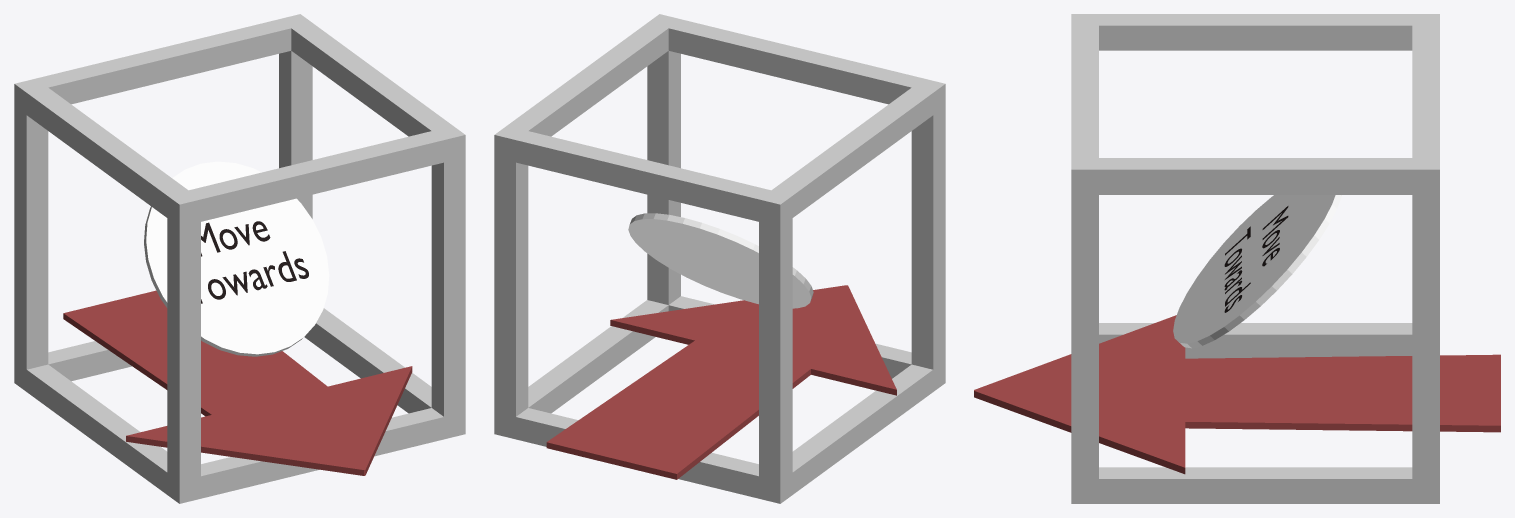
Rendered from MoveTowards.glb.
3 renders of one model, left to right at view 1: azimuth 30°, elevation 25°; view 2: azimuth 150°, elevation 25°; view 3: azimuth 270°, elevation 25°, orthographic. The views are drawn at different scales.
Visible parts, largest first — view 1: Cube, Cube.005, Cylinder.001, Text.001; view 2: Cube, Cube.005, Cylinder.001; view 3: Cube, Cube.005, Cylinder.001, Text.001.
Boxes of the visible parts, x1,y1,x2,y2 form: Cube: (14, 14, 465, 503); Cube.005: (63, 290, 412, 475); Cylinder.001: (144, 161, 329, 356); Text.001: (201, 221, 308, 303); Cube: (494, 14, 945, 503); Cube.005: (546, 285, 896, 479); Cylinder.001: (628, 213, 813, 308); Cube: (1071, 14, 1439, 503); Cube.005: (974, 315, 1500, 474); Cylinder.001: (1173, 195, 1341, 348); Text.001: (1224, 206, 1288, 312).
Bounding box in the file's own units: 2.02 × 2 × 2.86.
